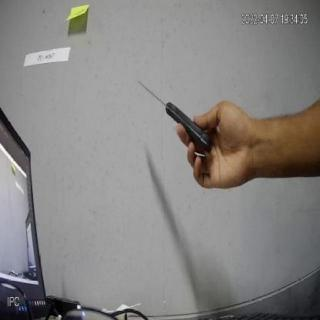knife: (128, 72, 214, 154)
